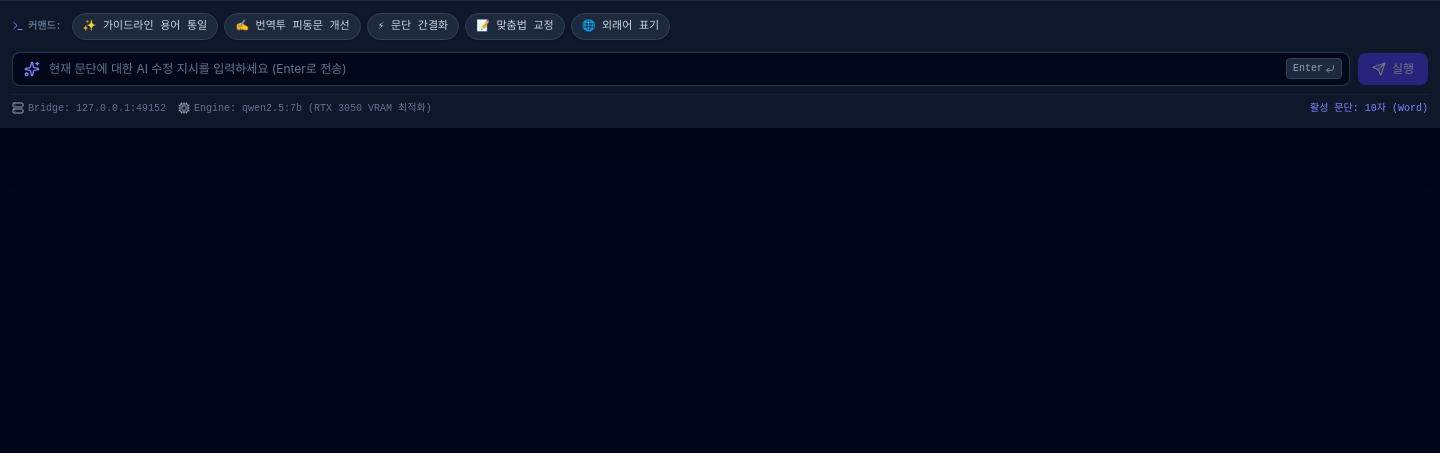
Test: AICommandBar Component › clears all cards when clicking 전체 삭제 in response tray
This screenshot has width=1440, height=453.
Click the button "⚡ 문단 간결화": [413, 26] box [367,13,459,40]
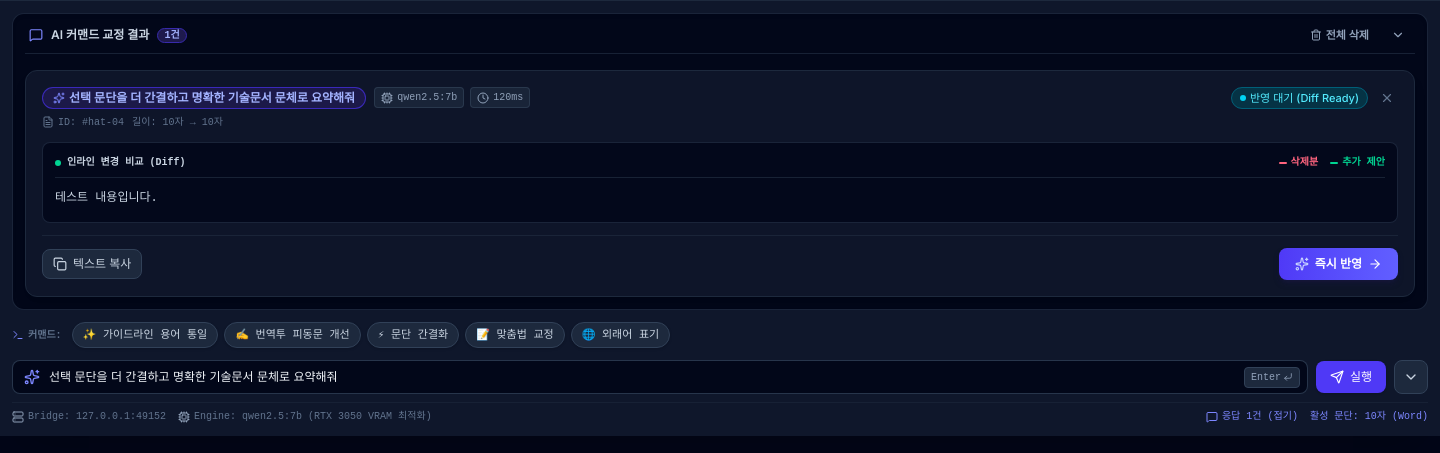
Expected: the element with test id "ai-response-cards-tray" is shown
Click the button with test id "clear-all-cards-btn": [1339, 35] box [1302,26,1377,45]
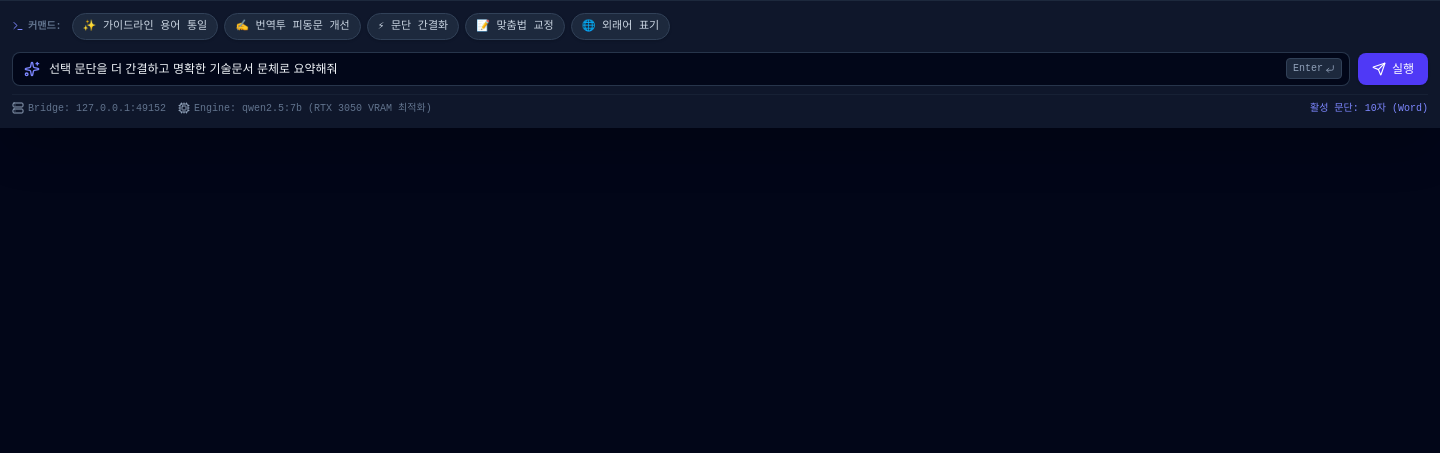
Expected: the element with test id "ai-response-cards-tray" is gone
